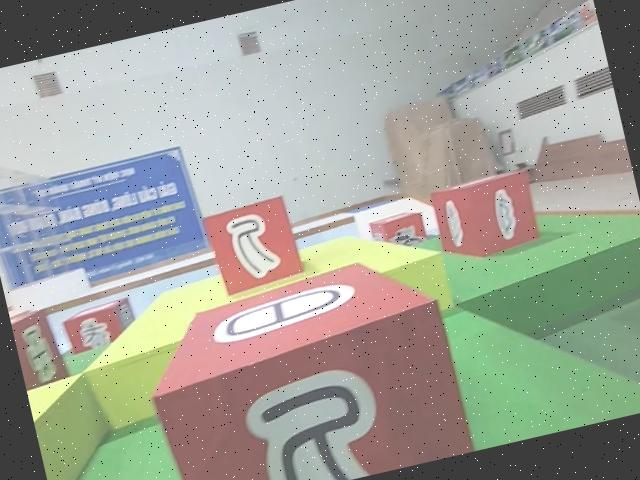R1: (365, 205, 429, 257)
R2 Fake: (134, 243, 477, 480), (199, 193, 306, 297), (59, 293, 144, 359)
R2 Real: (427, 165, 546, 268), (8, 300, 73, 394)
